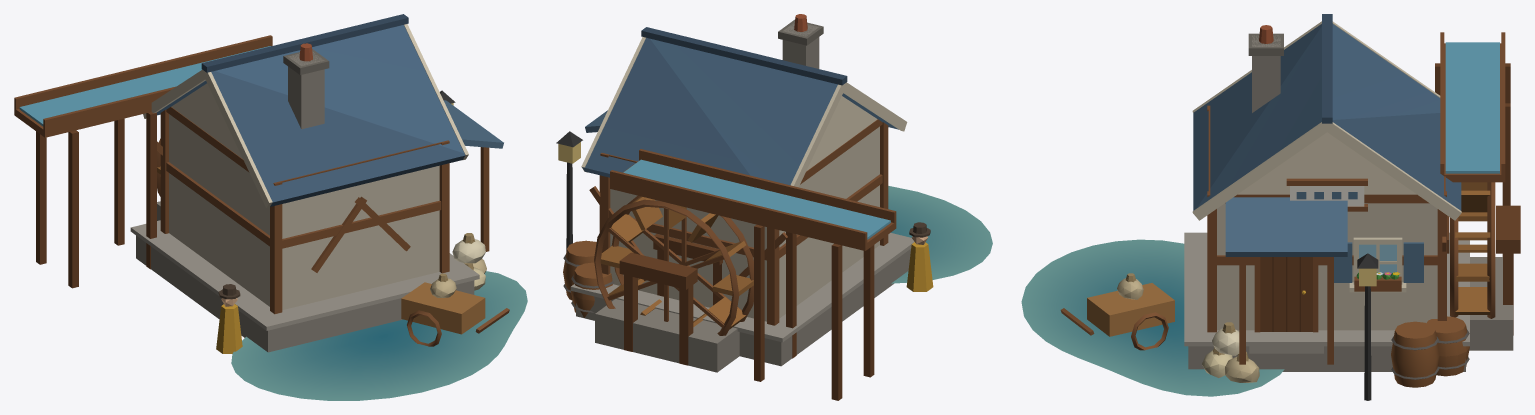
Rendered from watermill.glb.
3 views of the same model, side by side, from view 1: azimuth 30°, elevation 25°; view 2: azimuth 150°, elevation 25°; view 3: azimuth 270°, elevation 25° (orthographic). The views are drawn at different scales.
Visible parts, largest first — view 1: town-watermill; view 2: town-watermill; view 3: town-watermill.
Boxes of the visible parts, x1=… form: town-watermill: x1=14, y1=14, x2=527, y2=400; town-watermill: x1=556, y1=14, x2=992, y2=400; town-watermill: x1=1021, y1=14, x2=1520, y2=400.
Bounding box in the file's own units: 7.65 × 5.27 × 8.48.
